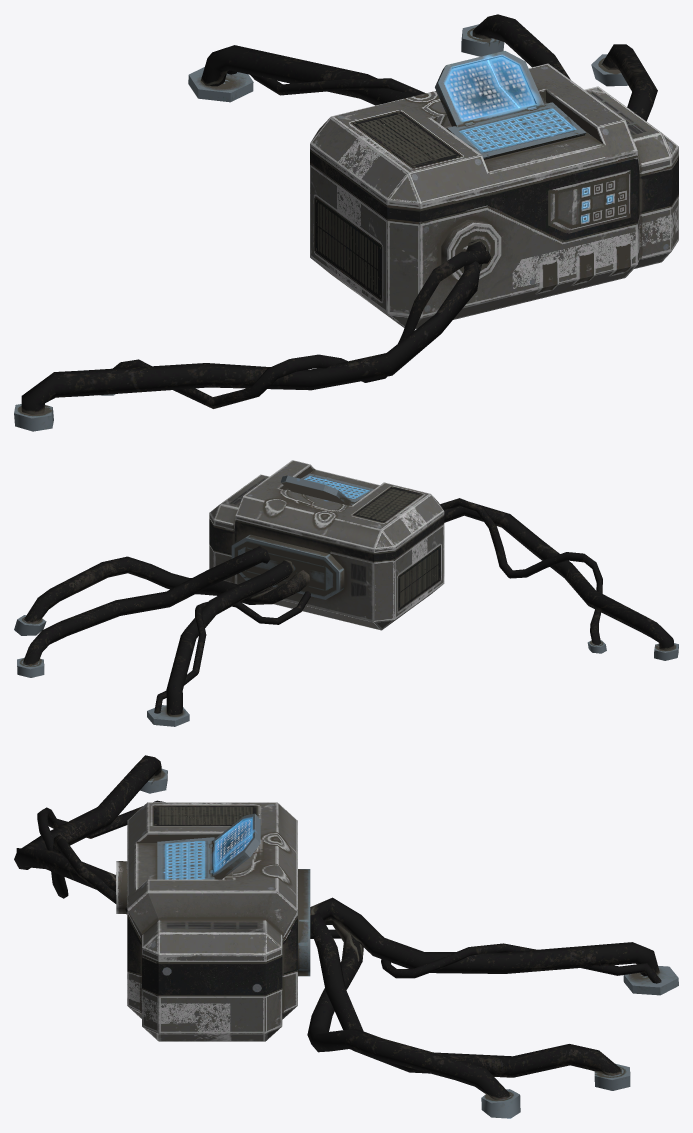
File: SM_computeUnit.fbx
3 views of the same model, one above another, from view 1: azimuth 30°, elevation 25°; view 2: azimuth 150°, elevation 25°; view 3: azimuth 270°, elevation 25° (orthographic). The views are drawn at different scales.
Parts seen in each view (by area): view 1: box_Mesh; view 2: box_Mesh; view 3: box_Mesh.
Part boxes in pixels (x1,y1,x2,y2): box_Mesh: (14, 14, 678, 431); box_Mesh: (14, 460, 678, 726); box_Mesh: (14, 755, 678, 1118).
Bounding box in the file's own units: 5.5 × 1.26 × 4.54.
